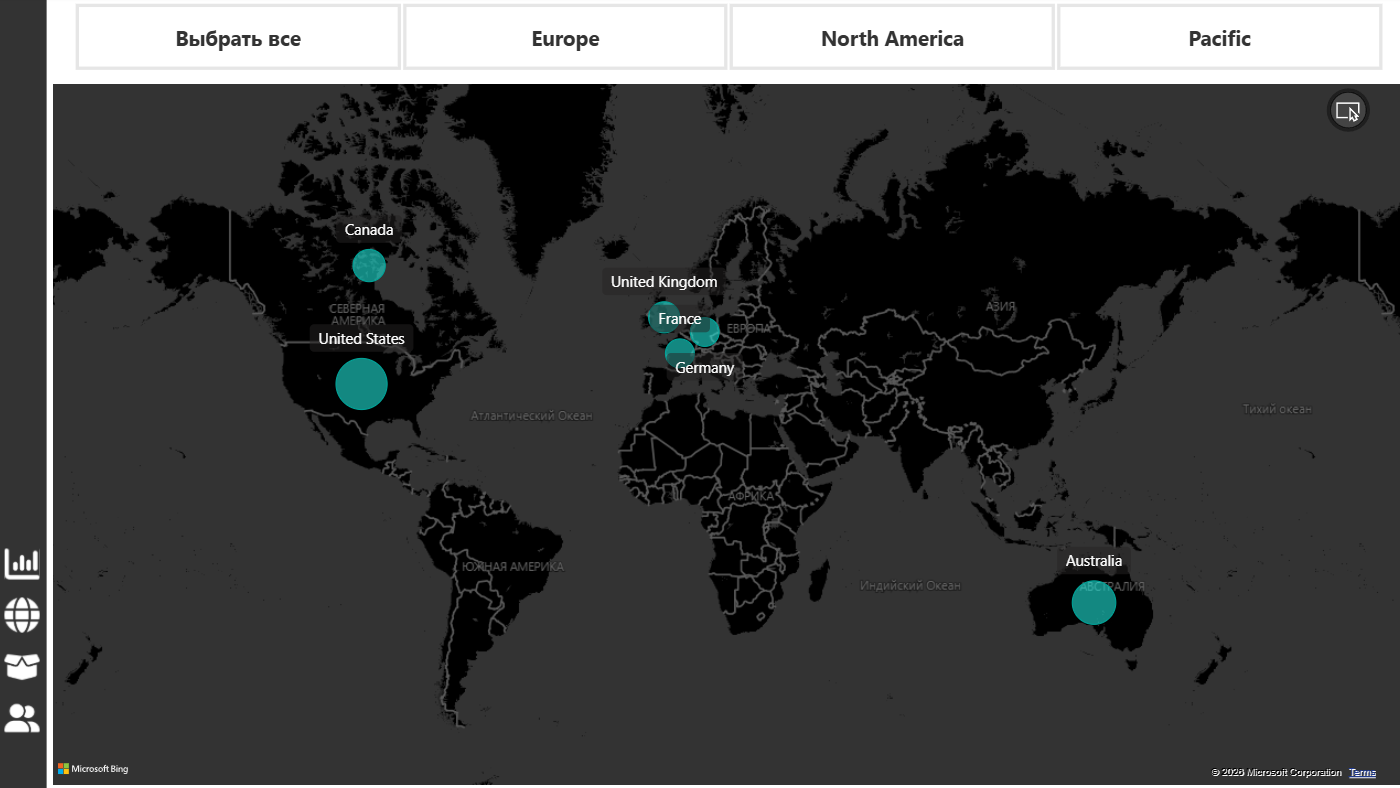

Layout of this report page (visuals, bound fields, positions):
{"tool":"powerbi","page":{"name":"Map","canvas":[1280,720],"ordinal":1},"visuals":[{"type":"shape","box":[0,0,45,720],"z":0},{"type":"actionButton","box":[2.4,541.4,54.1,40],"z":0,"group":"g1"},{"type":"map","fields":{"Category":["Territory Lookup.Country"],"Size":["Measure Table.Total Orders"]},"box":[45.3,74.3,1234.7,645.8],"z":1000},{"type":"actionButton","box":[2.4,587.9,54.1,40],"z":1000,"group":"g1"},{"type":"slicer","fields":{"Values":["Territory Lookup.Continent"]},"box":[45.3,0,1234.7,74.3],"z":2000},{"type":"actionButton","box":[2.4,494.8,54.1,40],"z":2000,"group":"g1"},{"type":"group","id":"g1","title":"Nav. Buttons","box":[2.4,494.8,54.1,179.7],"z":3000},{"type":"actionButton","box":[2.4,634.5,54.1,40],"z":3000,"group":"g1"}]}

Visuals, with their boxes in screenshot pixels (x1, y1, x2, y2):
shape: rect(0, 0, 45, 777)
actionButton: rect(0, 584, 57, 627)
map - Territory Lookup.Country x Measure Table.Total Orders: rect(45, 80, 1377, 777)
actionButton: rect(0, 634, 57, 677)
slicer - Territory Lookup.Continent: rect(45, 0, 1377, 80)
actionButton: rect(0, 534, 57, 577)
"Nav. Buttons" group: rect(0, 534, 57, 728)
actionButton: rect(0, 684, 57, 728)
